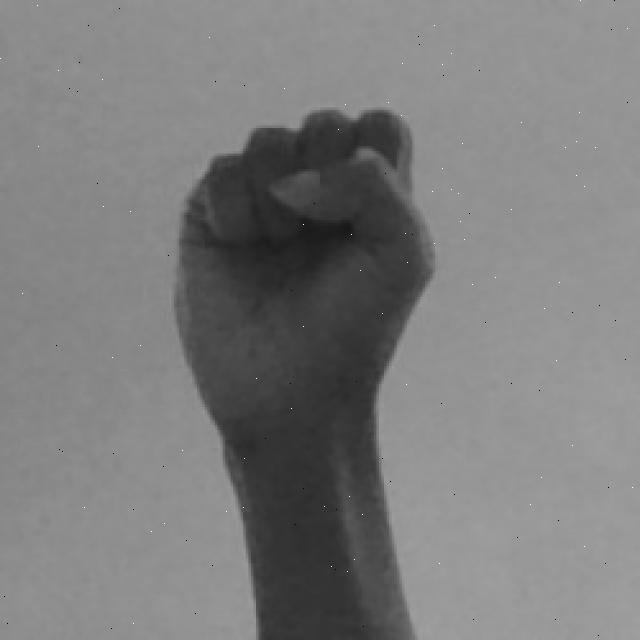S: (162, 102, 451, 640)
